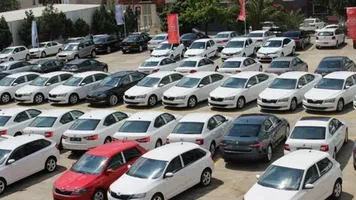Car: (107, 142, 214, 200), (52, 140, 147, 200), (243, 150, 343, 200), (0, 134, 60, 194), (219, 113, 289, 164), (166, 112, 233, 157), (62, 110, 130, 154), (113, 111, 184, 150), (207, 71, 278, 109), (284, 117, 349, 158), (161, 71, 232, 108), (21, 109, 84, 150), (257, 71, 322, 110), (86, 70, 148, 106), (123, 71, 184, 107), (302, 71, 356, 111), (14, 70, 75, 104), (48, 71, 110, 104), (0, 107, 45, 138), (0, 71, 42, 104), (256, 37, 296, 62), (220, 36, 258, 62), (56, 39, 96, 63), (172, 56, 219, 76), (314, 55, 356, 77), (263, 56, 308, 76), (216, 57, 263, 75), (150, 39, 187, 60), (136, 56, 179, 74), (184, 38, 218, 58), (60, 59, 108, 73), (29, 40, 64, 58), (315, 28, 345, 48), (120, 34, 151, 53), (247, 29, 275, 50), (213, 31, 239, 51), (28, 59, 65, 73), (283, 30, 310, 49), (0, 45, 30, 61), (180, 32, 210, 48), (248, 21, 282, 34), (93, 35, 117, 53), (299, 17, 325, 33), (147, 34, 168, 53), (0, 61, 32, 72), (315, 23, 340, 33), (352, 140, 356, 170), (0, 72, 13, 81), (66, 38, 84, 44), (352, 92, 356, 110), (131, 32, 148, 36)
